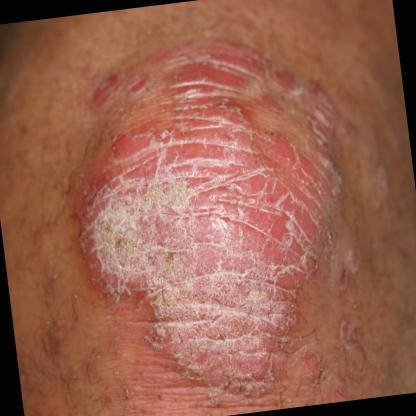Psoriasis: (51, 19, 366, 398)
